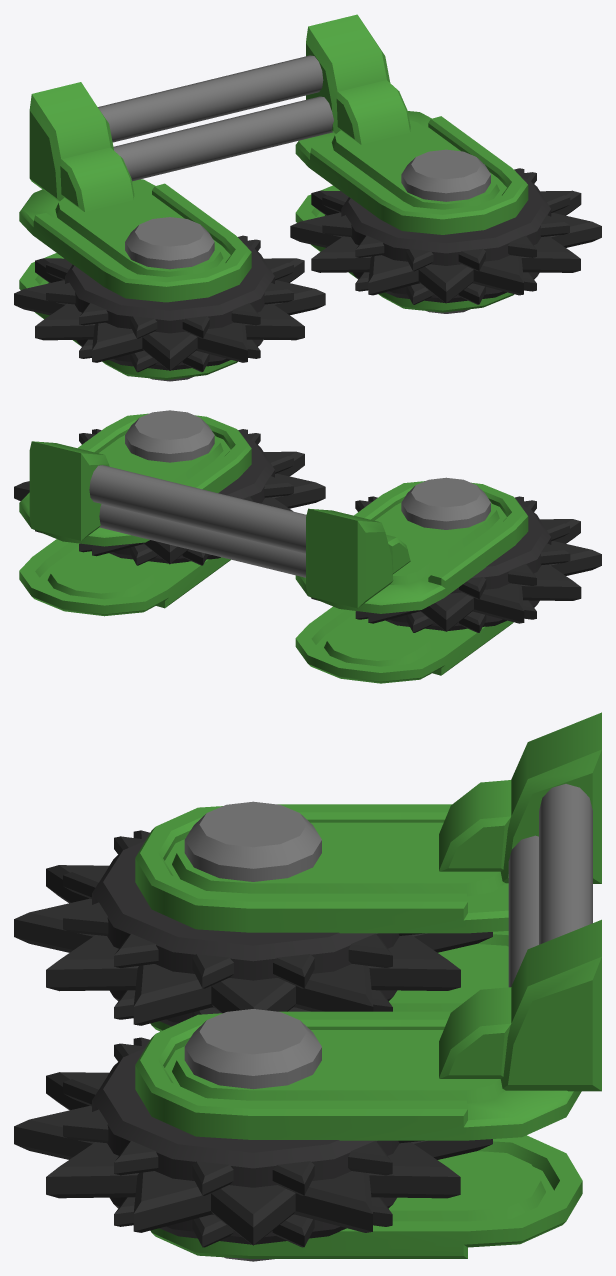
Rendered from Awl_2_LP.fbx.
3 views of the same model, one above another, from view 1: azimuth 30°, elevation 25°; view 2: azimuth 150°, elevation 25°; view 3: azimuth 270°, elevation 25° (orthographic). The views are drawn at different scales.
Visible parts, largest first — view 1: Awl_2_Base, Awl_2_R, Awl_2_L; view 2: Awl_2_Base, Awl_2_R, Awl_2_L; view 3: Awl_2_Base, Awl_2_L, Awl_2_R.
Boxes of the visible parts, bbox=[...] form: Awl_2_Base: bbox=[19, 14, 528, 379]; Awl_2_R: bbox=[14, 217, 325, 381]; Awl_2_L: bbox=[290, 149, 601, 313]; Awl_2_Base: bbox=[19, 413, 528, 683]; Awl_2_R: bbox=[311, 477, 601, 632]; Awl_2_L: bbox=[14, 410, 325, 565]; Awl_2_Base: bbox=[135, 712, 601, 1258]; Awl_2_L: bbox=[14, 1009, 492, 1261]; Awl_2_R: bbox=[14, 801, 492, 1026].
Bounding box in the file's own units: 200 × 68.45 × 121.
